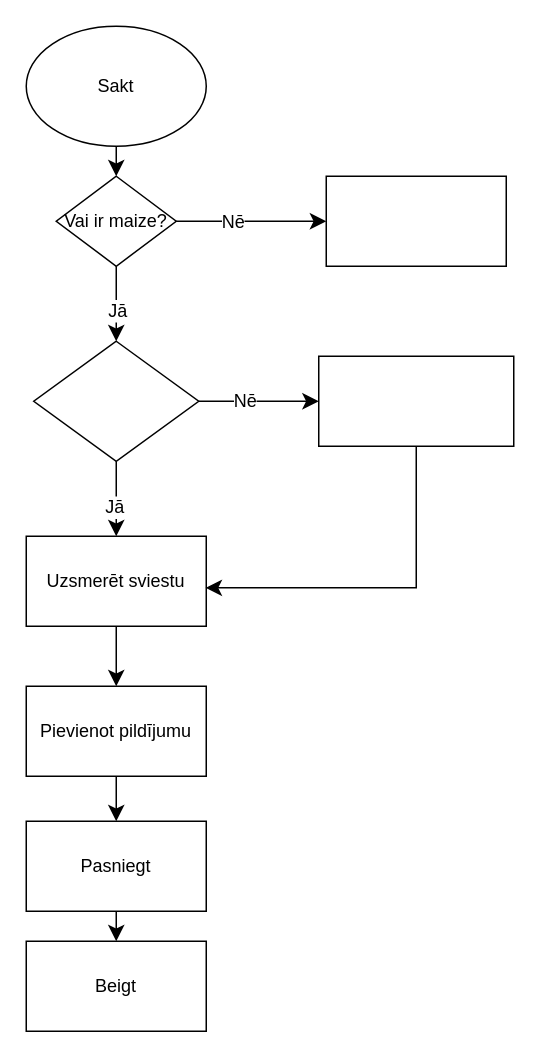
Some shapes in this 540 by 1058 pixel diagram are drawn without their labels. The shapes that lost their labels are listed below. From the top down, each one's centre as x and y in pixels, then its label:
At (x=415, y=220): "Nopērc maizi un tād sāksim".
At (x=115, y=400): "Vai maize ir grauzdēta?".
At (x=415, y=400): "Grauzdēt maizi".
